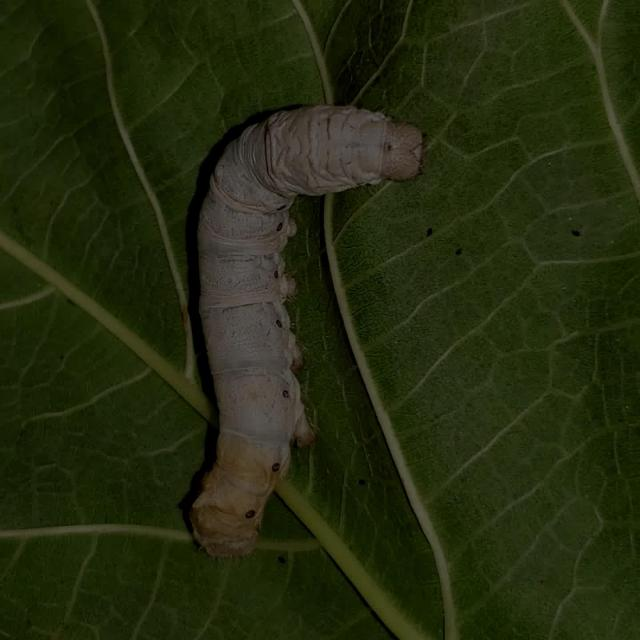Grasserie: (138, 68, 476, 588)
